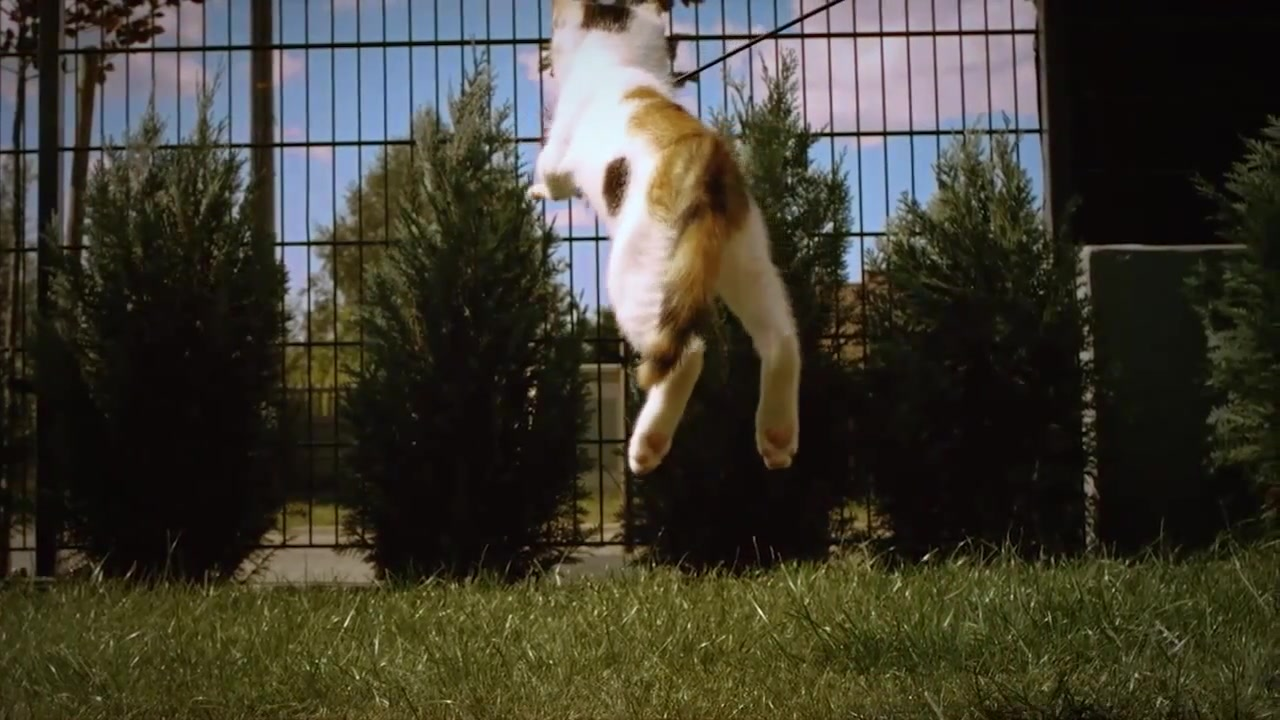cat: (514, 4, 806, 477)
